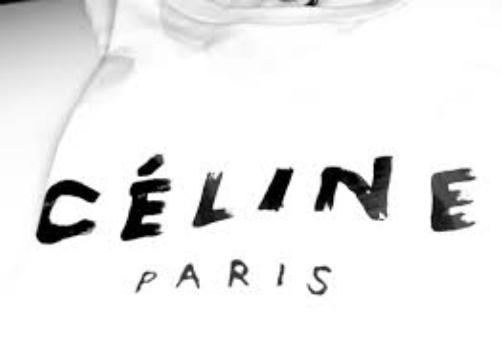CELINE: (38, 147, 479, 248)
